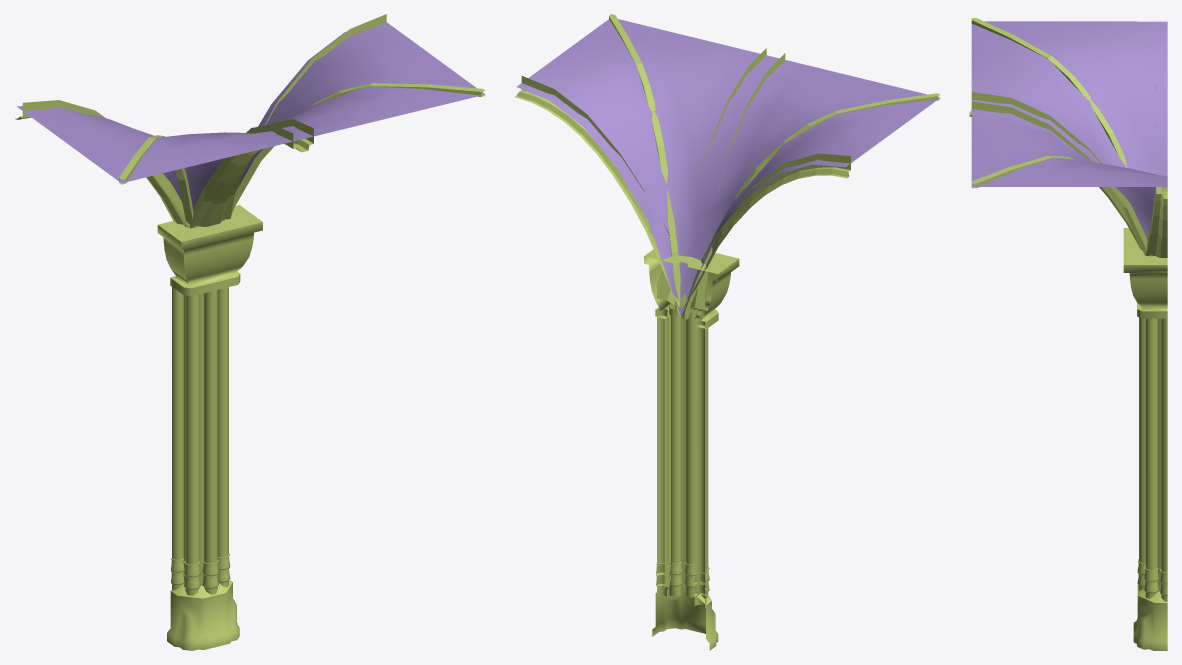
The model's file is column_half.fbx.
The picture shows the model from 3 angles, left to right: view 1: azimuth 30°, elevation 25°; view 2: azimuth 150°, elevation 25°; view 3: azimuth 270°, elevation 25°; orthographic projection. The views are drawn at different scales.
Parts seen in each view (by area): view 1: Cylinder.025; view 2: Cylinder.025; view 3: Cylinder.025.
Part boxes in pixels (bbox=[...]): Cylinder.025: bbox=[15, 14, 485, 650]; Cylinder.025: bbox=[515, 14, 940, 650]; Cylinder.025: bbox=[969, 18, 1167, 650].
Size of the model in its own units: 10.12 by 15.21 by 5.06.
